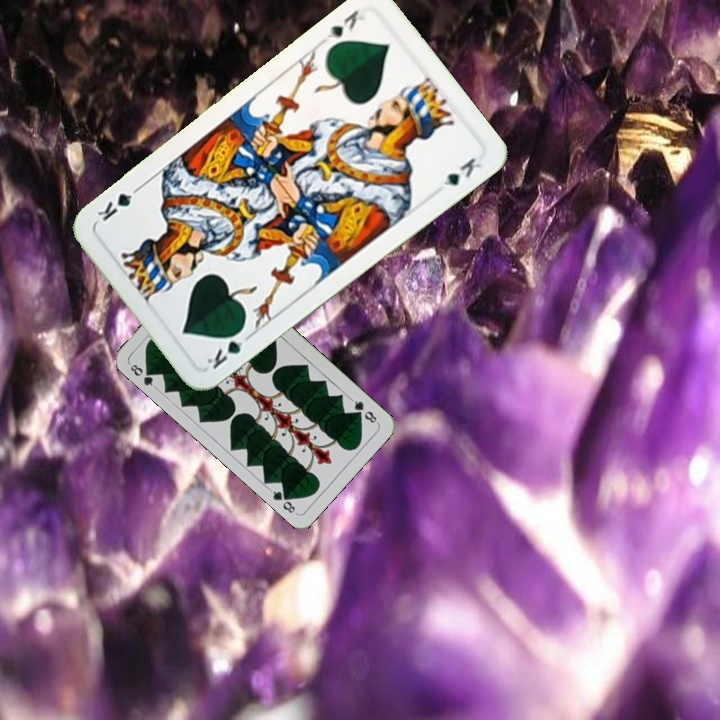G8: (347, 395, 381, 426), (126, 360, 159, 391)
GK: (203, 324, 254, 372), (323, 6, 367, 41)
